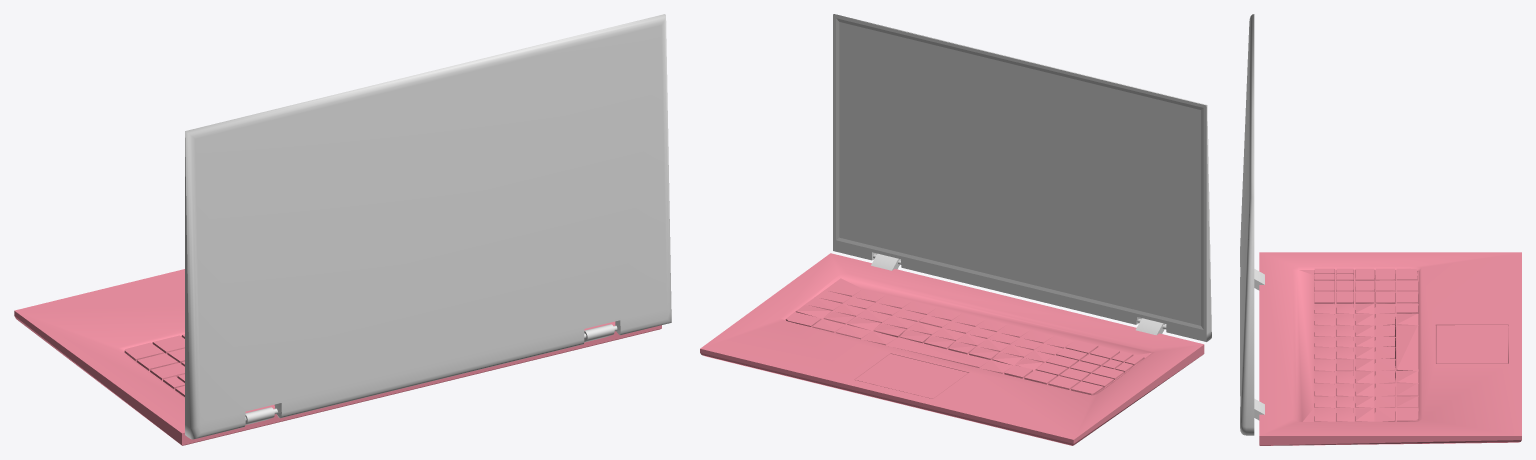
The model's file is ordi50%.FBX.
The picture shows the model from 3 angles, left to right: view 1: azimuth 30°, elevation 25°; view 2: azimuth 150°, elevation 25°; view 3: azimuth 270°, elevation 25°; orthographic projection. The views are drawn at different scales.
Visible parts, largest first — view 1: Box002, Box001; view 2: Box002, Box001; view 3: Box001, Box002.
Part boxes in pixels (x1=…): Box002: x1=185, y1=14, x2=671, y2=439; Box001: x1=14, y1=269, x2=661, y2=445; Box002: x1=833, y1=14, x2=1211, y2=341; Box001: x1=700, y1=253, x2=1204, y2=445; Box001: x1=1259, y1=252, x2=1521, y2=445; Box002: x1=1240, y1=14, x2=1254, y2=435.
Bounding box in the file's own units: 68.59 × 43.87 × 44.53.
